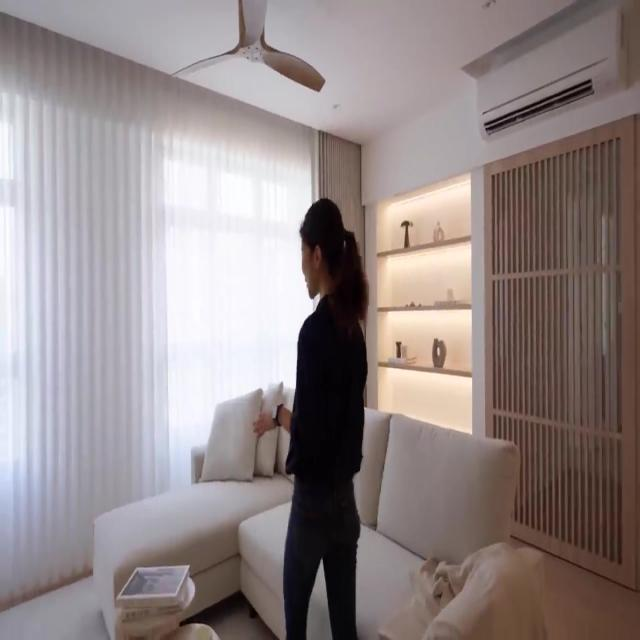door: (483, 112, 639, 590)
obstacle: (96, 384, 542, 640)
person: (252, 197, 368, 639)
